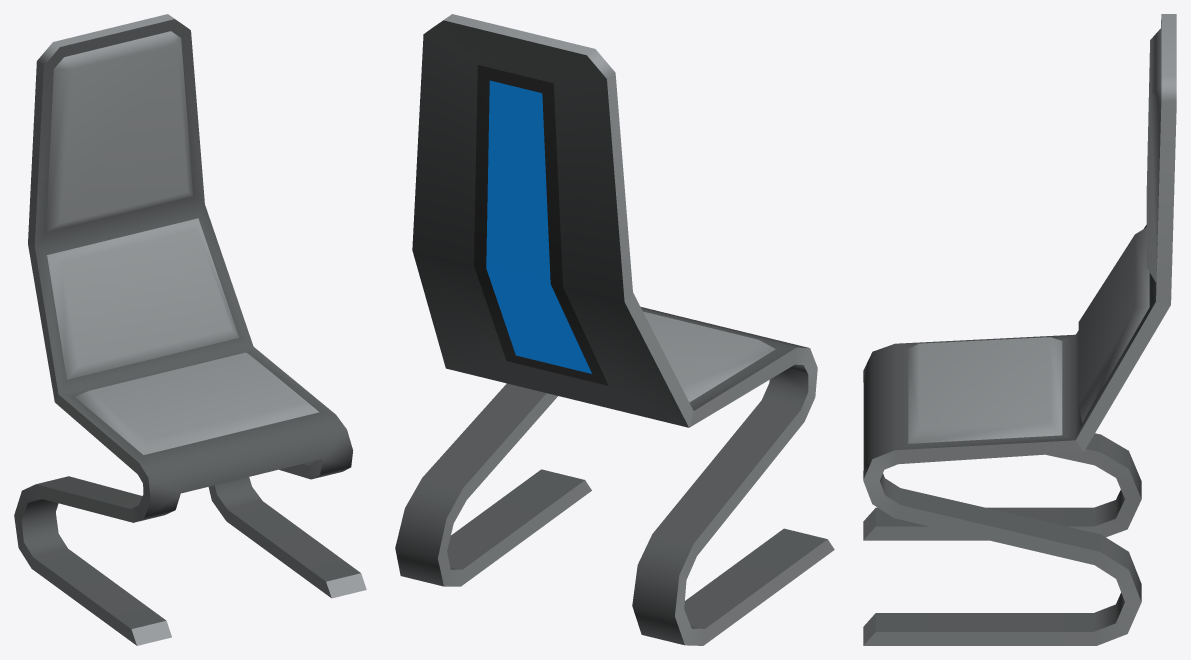
The model's file is Chair_015.glb.
3 views of the same model, side by side, from view 1: azimuth 30°, elevation 25°; view 2: azimuth 150°, elevation 25°; view 3: azimuth 270°, elevation 25° (orthographic). The views are drawn at different scales.
Parts seen in each view (by area): view 1: Chair_015; view 2: Chair_015; view 3: Chair_015.
Boxes of the visible parts, x1,y1,x2,y2 form: Chair_015: [14, 14, 366, 645]; Chair_015: [395, 14, 834, 645]; Chair_015: [863, 14, 1176, 645].
Bounding box in the file's own units: 0.6517 × 1.32 × 0.6955.
Materials: 2 (2 with a texture image).
